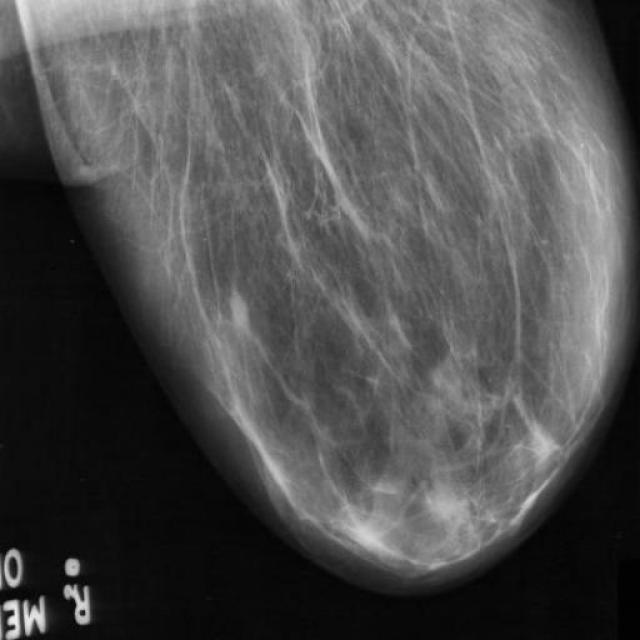cancer: (222, 272, 263, 352)
